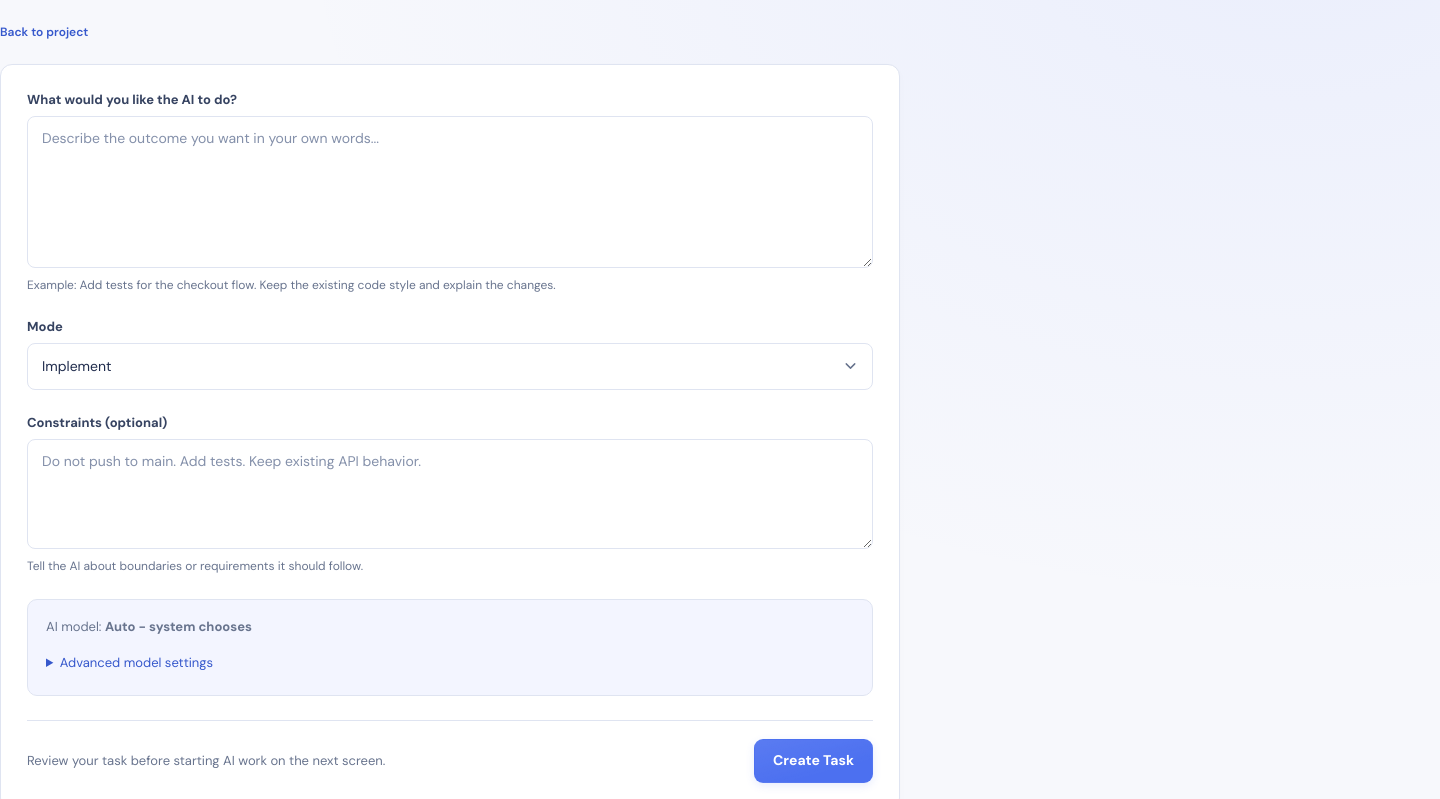
it: days 10–11 task creation › defaults to Auto, blocks empty tasks, and sends trimmed input before redirecting
(page scrolled)
Expected: the text "Auto - system chooses" is shown, x1=105 y1=618 x2=252 y2=635
Expected: the text "Example: Add tests" is shown, x1=27 y1=277 x2=556 y2=293
Click the button "Create Task": [814, 761] box x1=754 y1=739 x2=873 y2=783
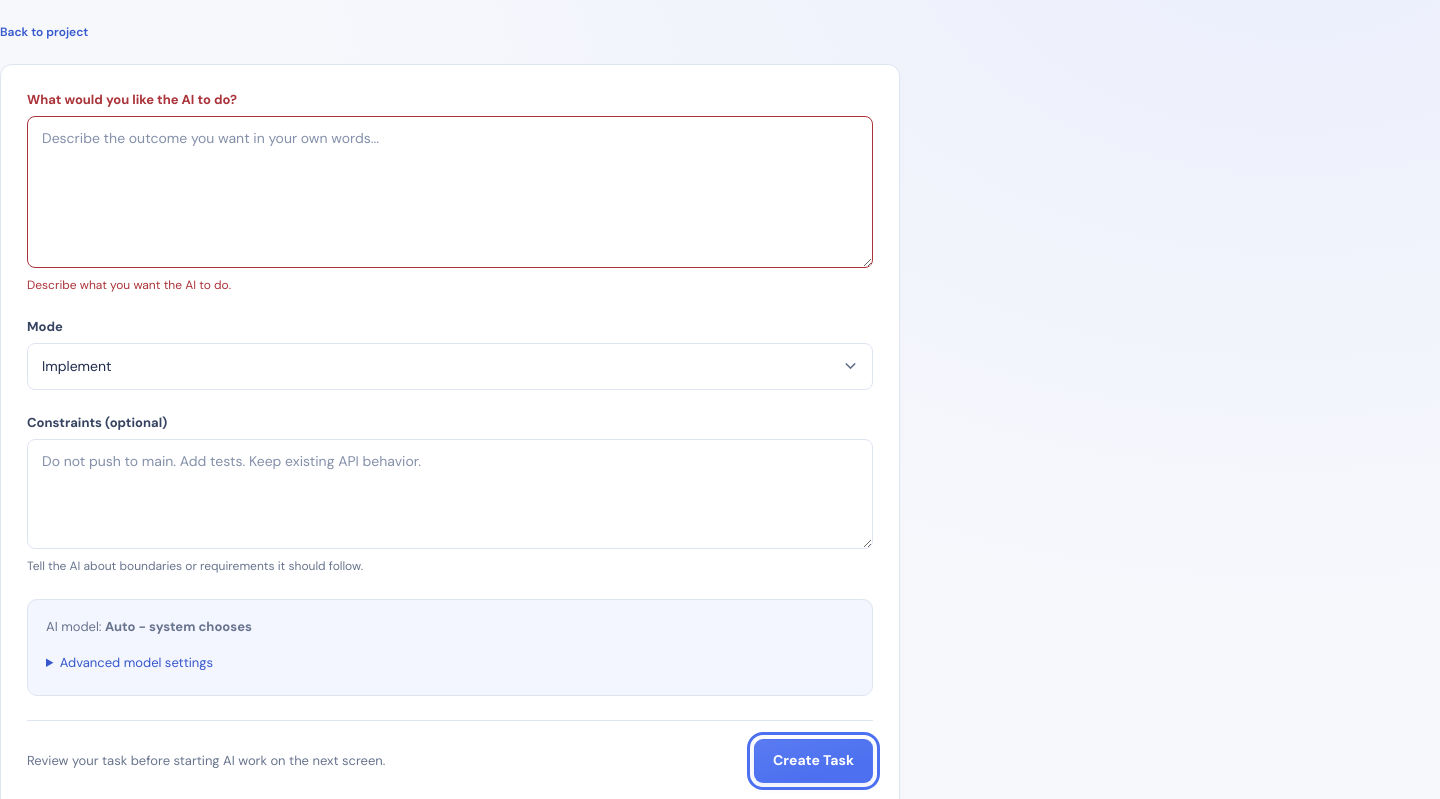
Now the text "Describe what you want the AI to do." is shown, box x1=27 y1=277 x2=231 y2=293
In the text box labelled "What would you like the AI to do?": [450, 192] box x1=27 y1=116 x2=873 y2=268, type "  Add checkout tests  "
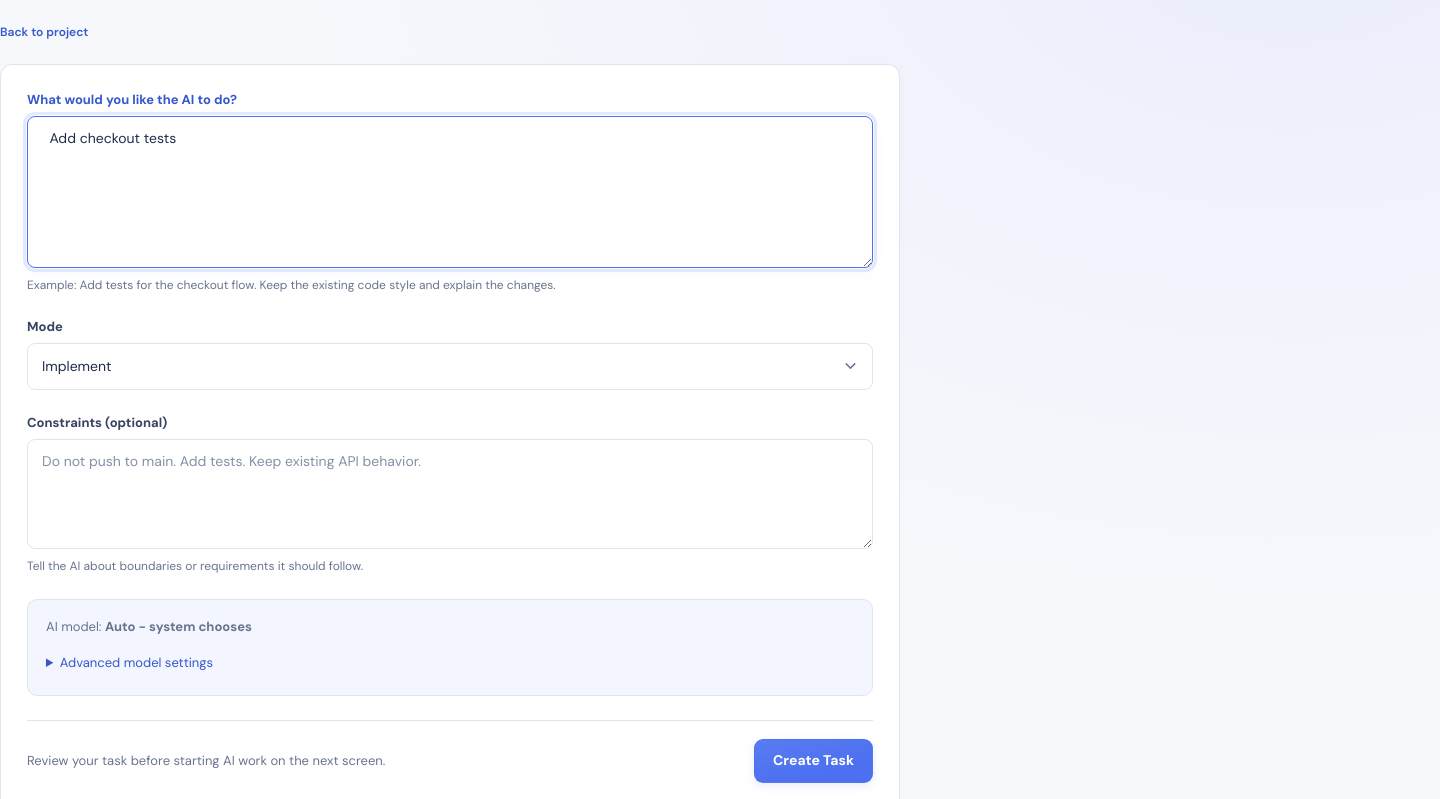
In the text box labelled "Constraints (optional)": [450, 494] box x1=27 y1=439 x2=873 y2=549, type "  Do not push to main  "
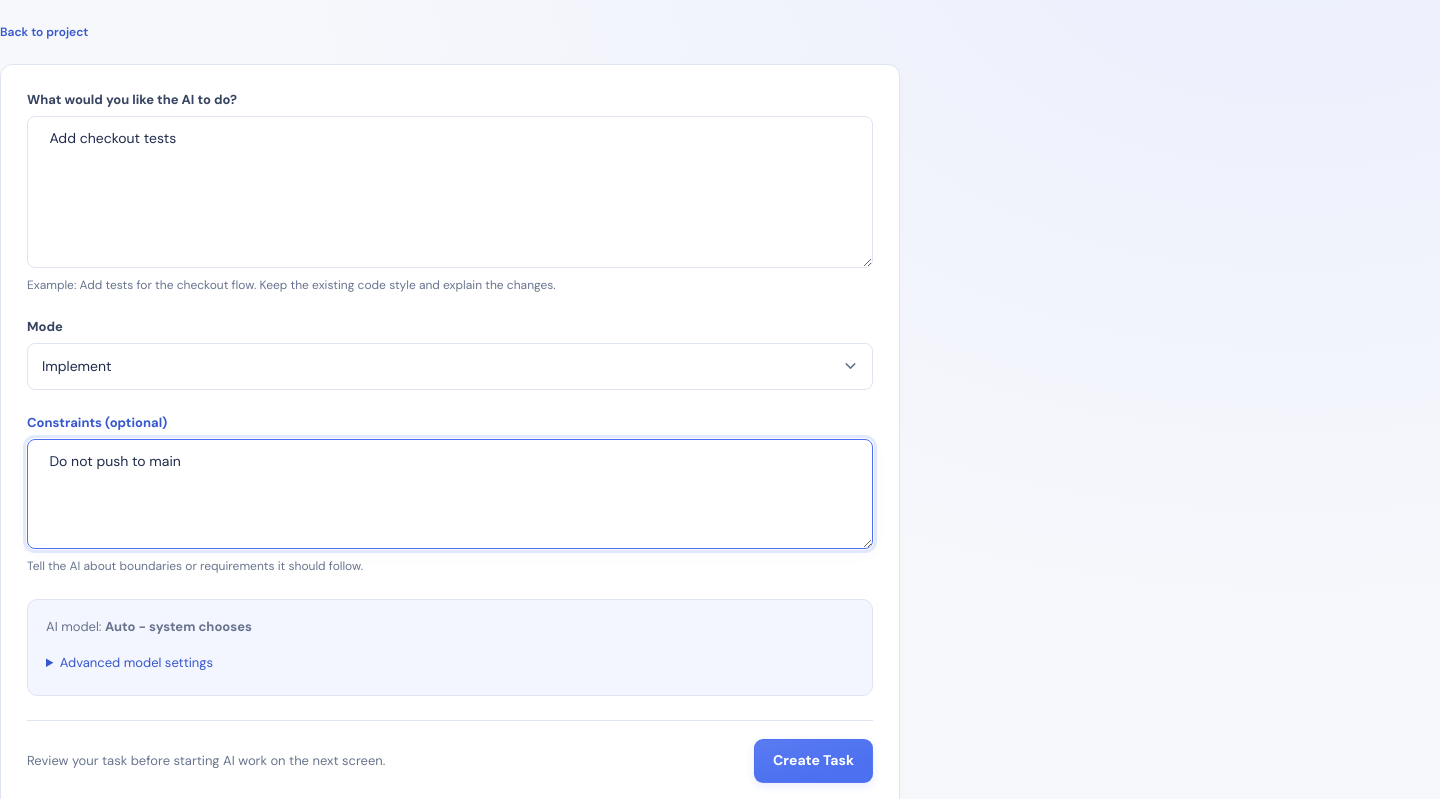
Click the button "Create Task": [814, 761] box x1=754 y1=739 x2=873 y2=783
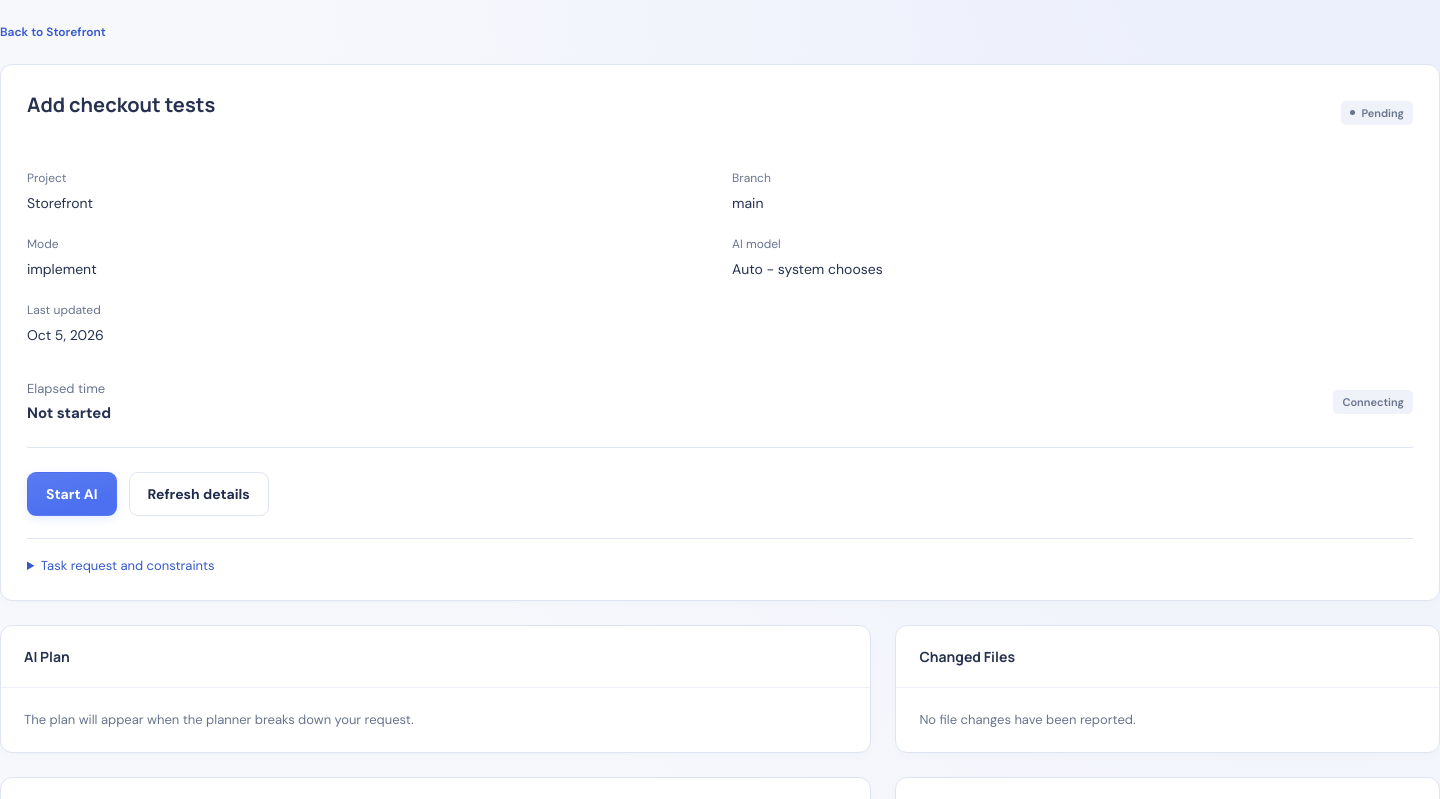
Now the button "Start AI" is shown, box x1=27 y1=472 x2=116 y2=516
